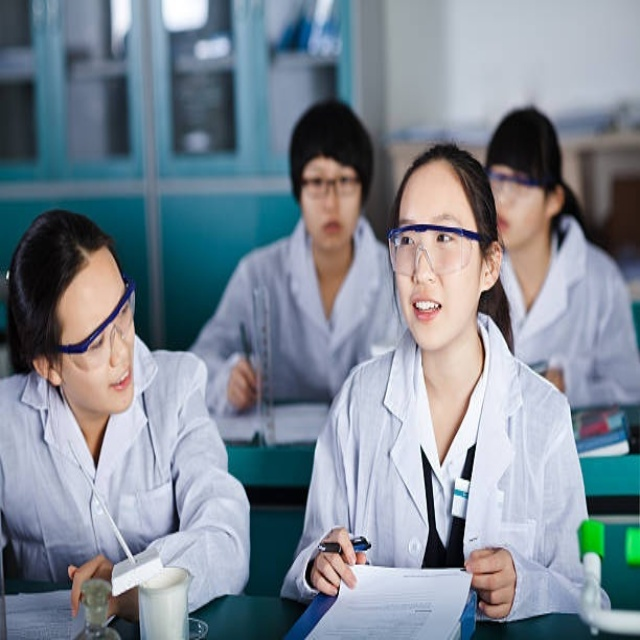Gafas: (54, 276, 136, 356), (386, 225, 488, 278), (485, 168, 553, 198), (300, 174, 362, 197)
Sin_guantes: (464, 545, 517, 620), (309, 528, 366, 595), (66, 553, 119, 621), (226, 352, 262, 412)
Sin_mascara: (98, 356, 136, 416), (405, 287, 444, 333), (315, 213, 344, 245)
